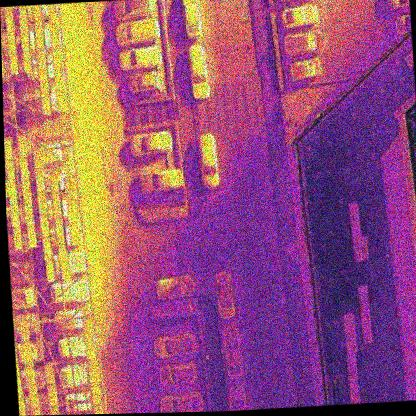Diode: (35, 168, 46, 191), (38, 191, 47, 214)
Hotspot: (46, 383, 59, 408), (25, 202, 35, 227), (37, 48, 47, 72), (65, 177, 75, 200), (35, 26, 45, 48), (32, 6, 42, 26)
Normal: (27, 384, 40, 408), (24, 362, 36, 387), (90, 382, 102, 406), (59, 261, 71, 284), (18, 319, 29, 343), (39, 214, 50, 238), (22, 179, 33, 203), (22, 49, 33, 73), (33, 147, 44, 170), (85, 337, 96, 360), (45, 258, 55, 283), (39, 69, 49, 94), (12, 227, 23, 249), (88, 360, 99, 382), (21, 341, 32, 363), (52, 44, 62, 68), (44, 361, 54, 385), (82, 316, 93, 337), (10, 205, 20, 228), (21, 28, 31, 51), (50, 23, 60, 46), (54, 216, 64, 238), (67, 200, 77, 222), (43, 236, 52, 260), (27, 225, 36, 249), (7, 30, 16, 54), (20, 158, 30, 179), (70, 222, 79, 245), (9, 181, 18, 204), (4, 137, 13, 160), (6, 159, 15, 181), (42, 93, 51, 115), (57, 90, 66, 112), (55, 68, 64, 90), (19, 7, 28, 29), (53, 192, 61, 216), (18, 136, 27, 157), (6, 10, 15, 31), (58, 238, 66, 261), (10, 54, 18, 75)
